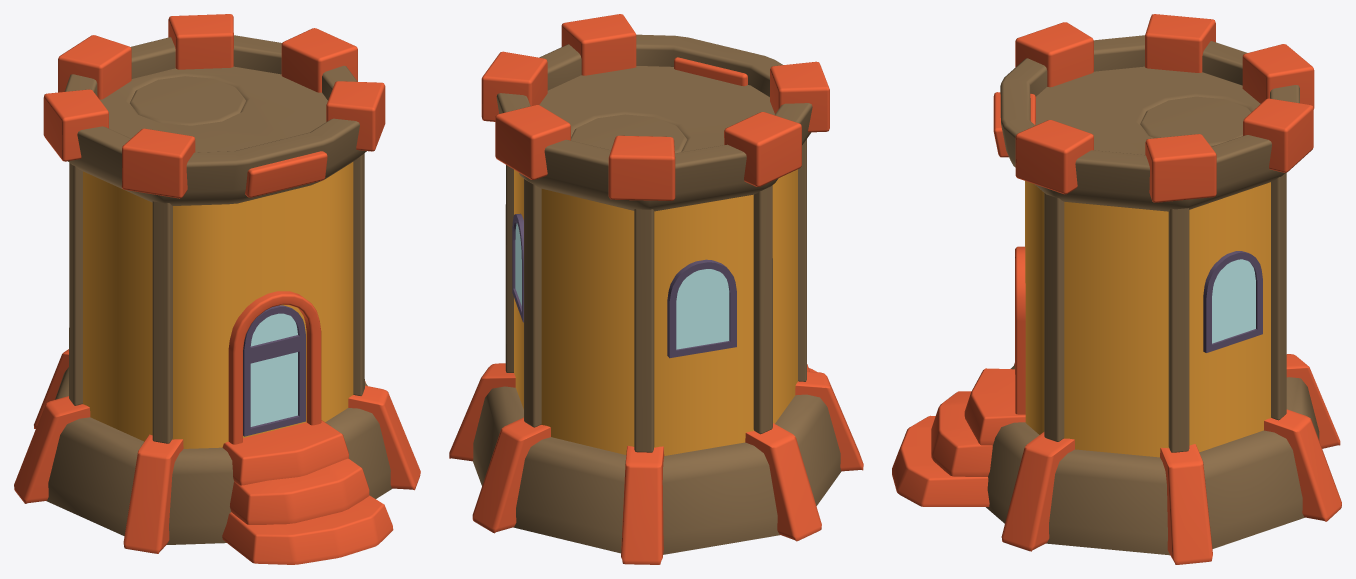
File: tower.fbx
3 views of the same model, side by side, from view 1: azimuth 30°, elevation 25°; view 2: azimuth 150°, elevation 25°; view 3: azimuth 270°, elevation 25° (orthographic).
Visible parts, largest first — view 1: tower; view 2: tower; view 3: tower.
Part boxes in pixels (left/top/right/bottom): tower: left=14, top=14, right=420, bottom=564; tower: left=449, top=14, right=863, bottom=564; tower: left=892, top=14, right=1341, bottom=564.
Size of the model in its own units: 58.08 by 60.54 by 63.04.
